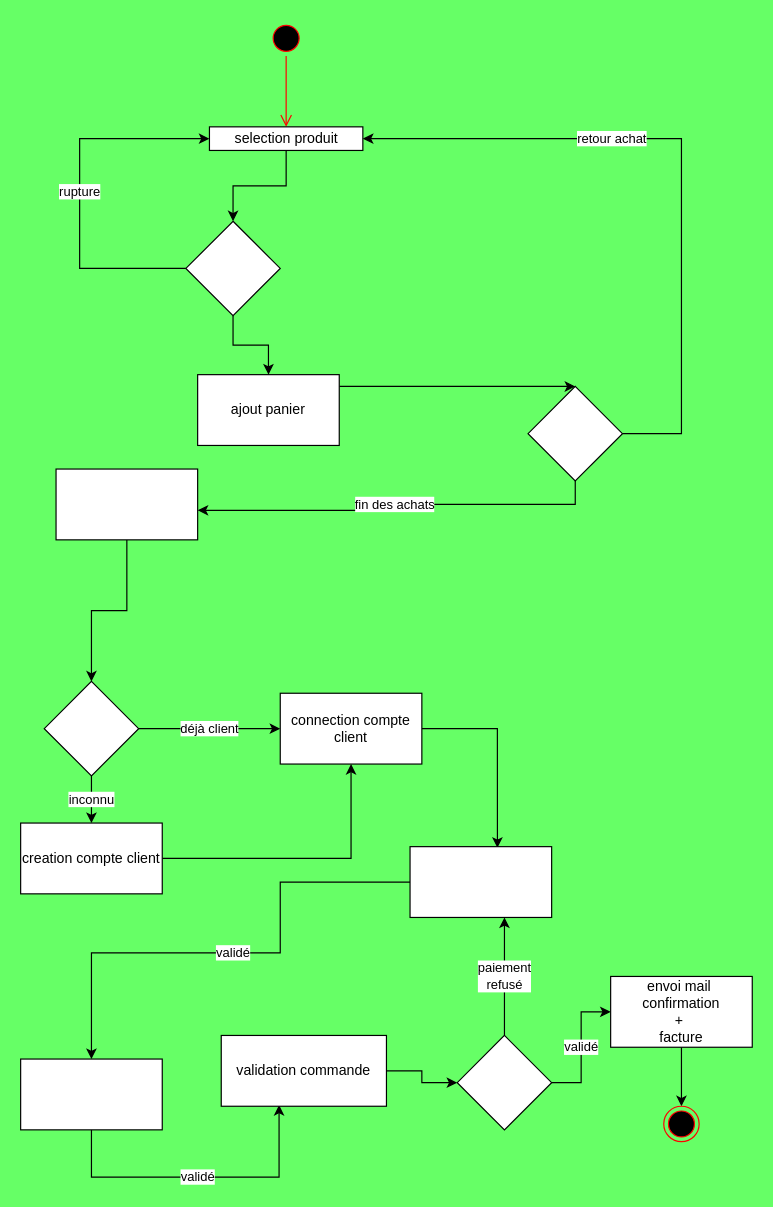
Image size: 773x1207. Some labels were removed from this diagram. Each missing label, with the centre of its shape:
"choix livraison" belongs at point (480, 881).
"choix moyen de paiement" belongs at point (90, 1094).
"validation panier" belongs at point (126, 504).
